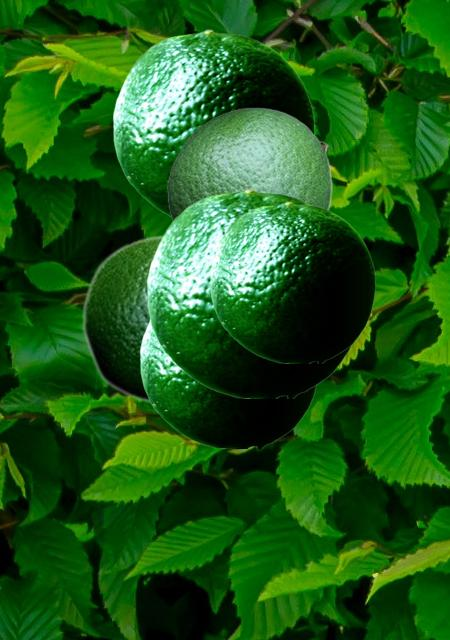calamansi: (147, 188, 352, 397), (113, 29, 313, 217), (210, 201, 374, 362), (140, 321, 316, 447), (167, 107, 331, 221), (81, 234, 162, 405)
